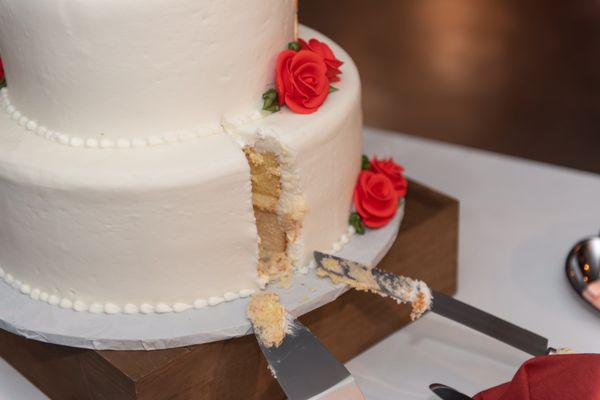sandwich: (247, 291, 367, 396)
